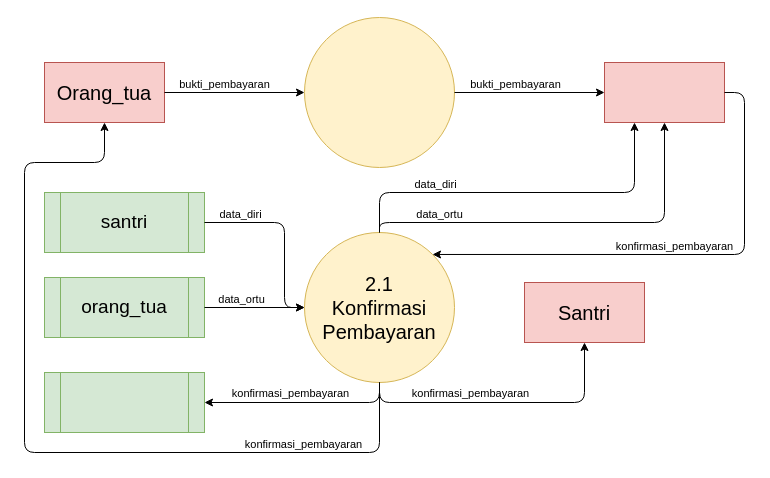
Image size: 770x478. Some labels were removed from this diagram. The shapes that lost their labels are listed below. From the top down, each one's centre as x and y in pixels, then its label:
At (x=379, y=92): "1.1 Proeses Pembayaran".
At (x=664, y=92): "Admin".
At (x=124, y=402): "pembayaran".
